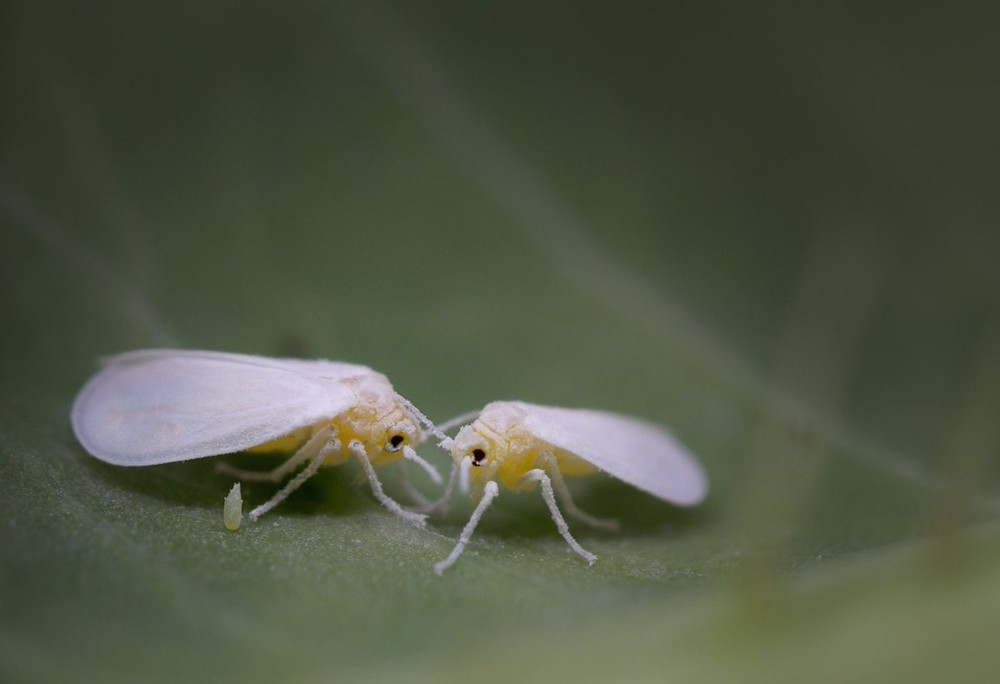Mosca Blanca: (68, 328, 450, 542), (434, 382, 725, 591)
